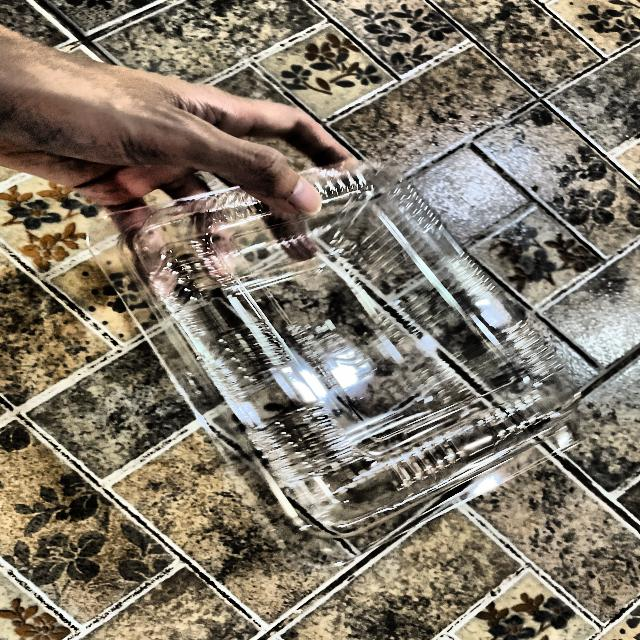plastic container: (60, 146, 599, 561)
